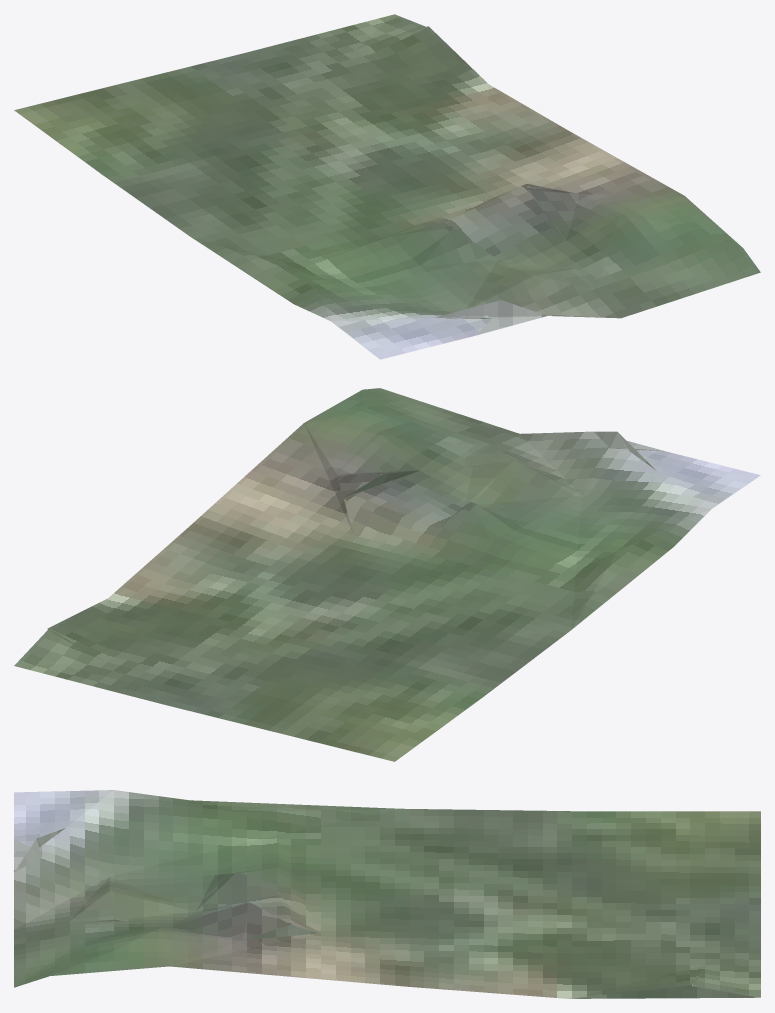
Rendered from Tile__000__001_L15_0.glb.
3 views of the same model, one above another, from view 1: azimuth 30°, elevation 25°; view 2: azimuth 150°, elevation 25°; view 3: azimuth 270°, elevation 25° (orthographic).
Parts seen in each view (by area): view 1: root; view 2: root; view 3: root.
Part boxes in pixels (<box>): root: <box>14,14,760,359</box>; root: <box>14,388,760,761</box>; root: <box>14,790,760,998</box>.
Size of the model in its own units: 60.71 by 6.07 by 101.
Materials: 1 (1 with a texture image).
